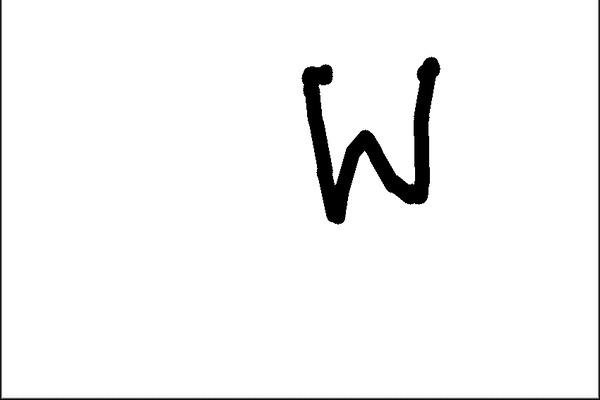w: (282, 46, 456, 241)
